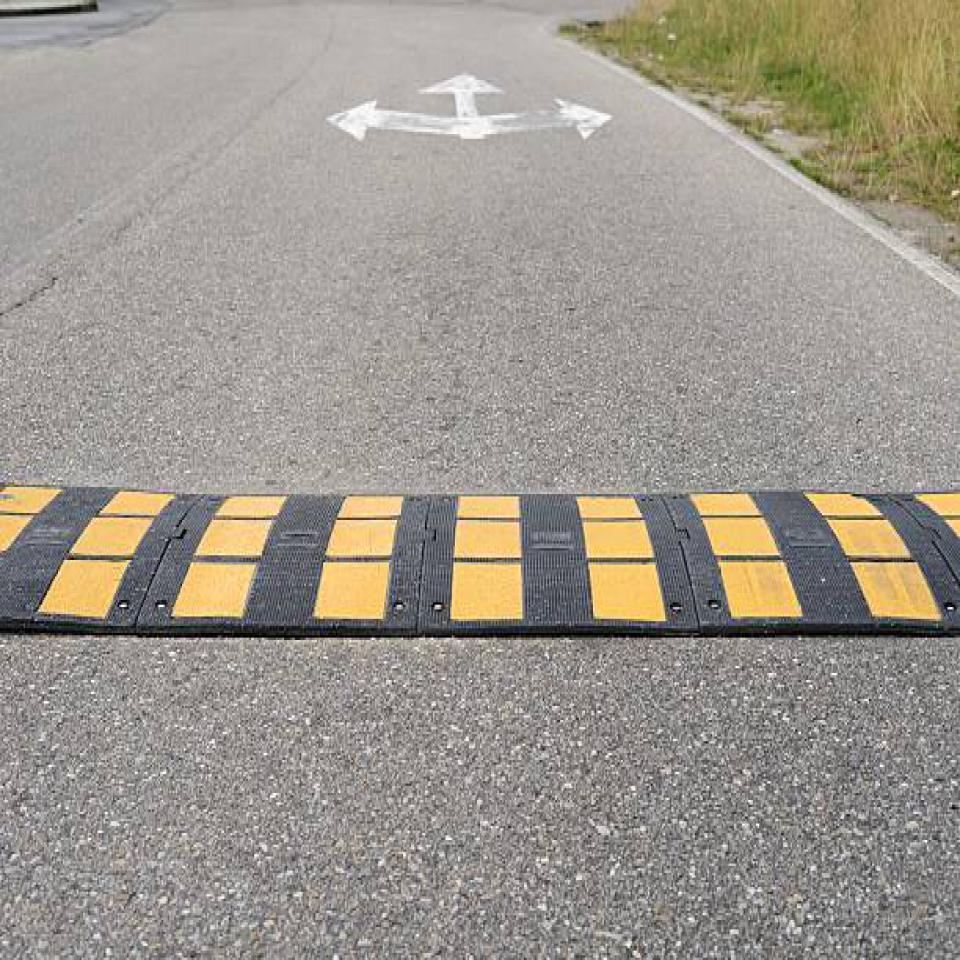speedbreaker: (4, 490, 952, 622)
